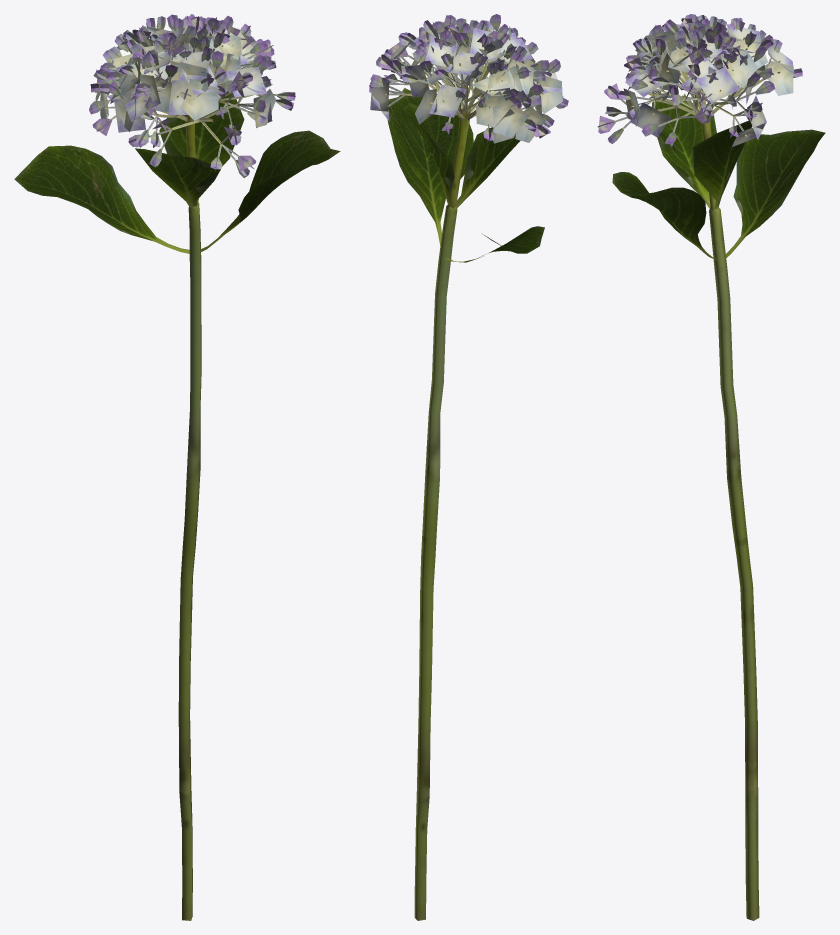
File: Hydrangea_baby_long_magenta.glb
3 views of the same model, side by side, from view 1: azimuth 30°, elevation 25°; view 2: azimuth 150°, elevation 25°; view 3: azimuth 270°, elevation 25° (orthographic). The views are drawn at different scales.
Visible parts, largest first — view 1: BABY; view 2: BABY; view 3: BABY.
Part boxes in pixels (x1=…): BABY: x1=14, y1=14, x2=340, y2=920; BABY: x1=369, y1=14, x2=568, y2=920; BABY: x1=597, y1=14, x2=825, y2=920.
Bounding box in the file's own units: 0.7928 × 3.08 × 0.7195.
Materials: 1 (1 with a texture image).
